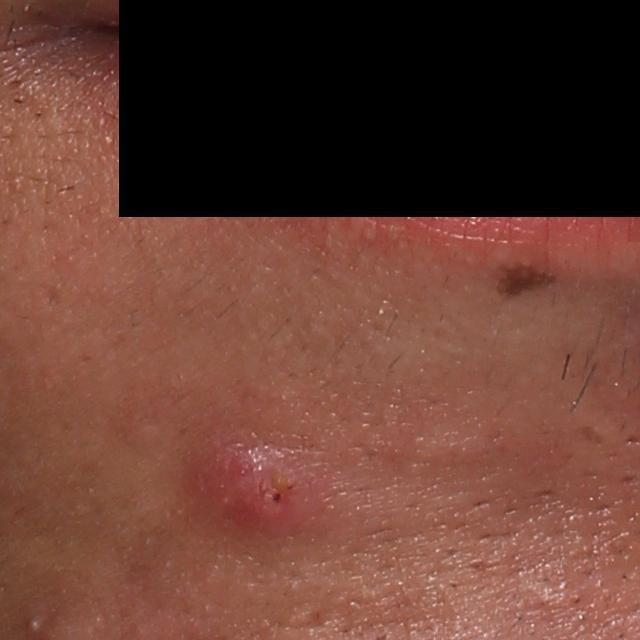comedo: (23, 614, 41, 631)
hypertrophic_scar: (404, 418, 497, 476)
nevus: (498, 258, 553, 297)
papule: (190, 430, 327, 537)
